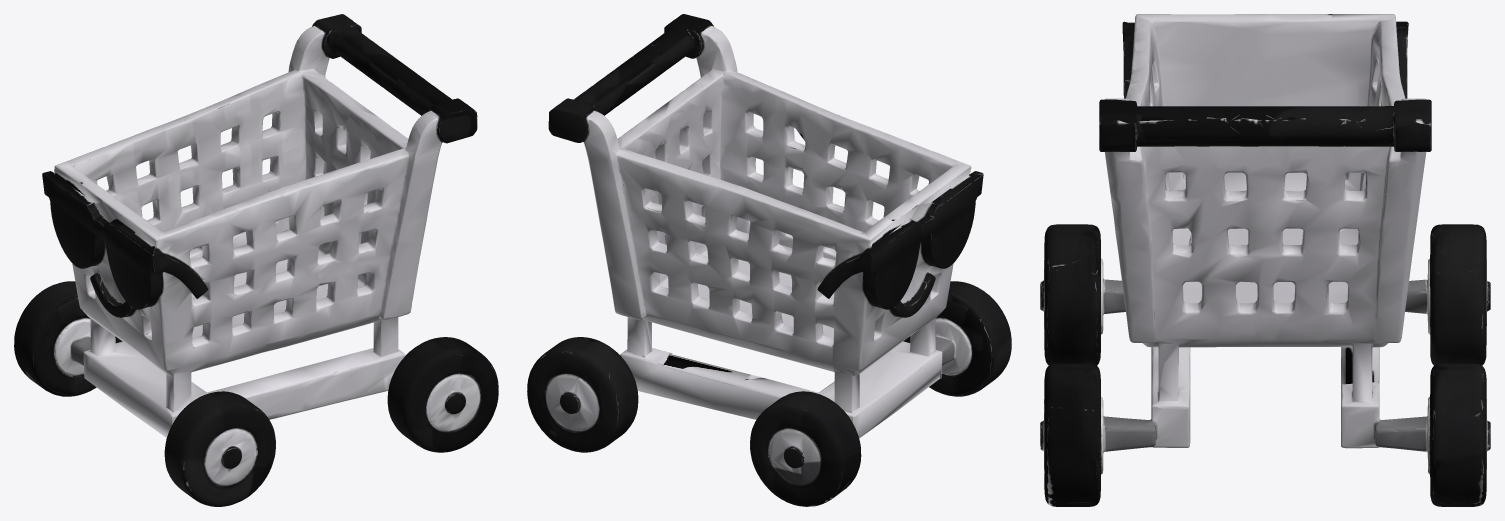
The model's file is ravecart.glb.
3 renders of one model, left to right at view 1: azimuth 30°, elevation 25°; view 2: azimuth 150°, elevation 25°; view 3: azimuth 270°, elevation 25°, orthographic. The views are drawn at different scales.
Parts seen in each view (by area): view 1: Mesh1.0; view 2: Mesh1.0; view 3: Mesh1.0.
Boxes of the visible parts, x1=… form: Mesh1.0: x1=14, y1=14, x2=498, y2=506; Mesh1.0: x1=527, y1=14, x2=1011, y2=506; Mesh1.0: x1=1040, y1=14, x2=1490, y2=506.
Bounding box in the file's own units: 1.91 × 1.84 × 1.83.
1 material, 1 textured.
